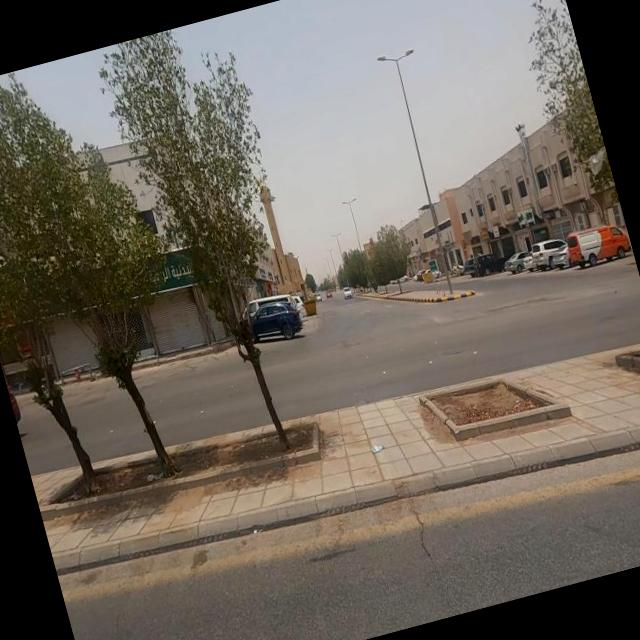debris: (332, 394, 411, 490), (40, 440, 108, 540), (126, 449, 180, 505)
